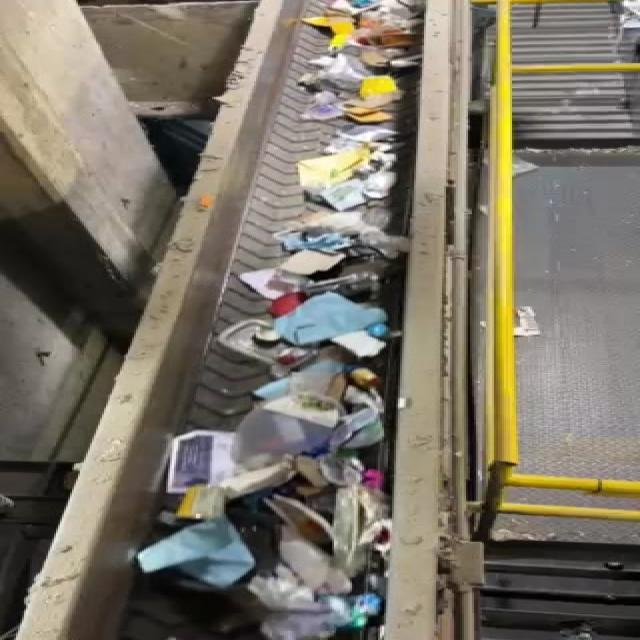metal: (330, 361, 390, 395)
paper: (122, 515, 258, 598), (157, 427, 238, 494), (240, 390, 355, 430)
pet: (325, 481, 407, 583)
pp: (310, 592, 395, 633)
